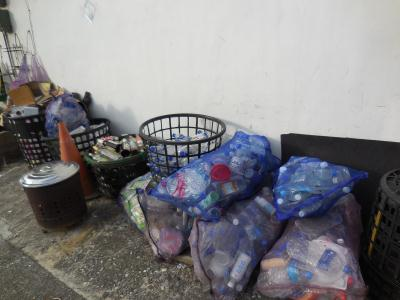bottle: (99, 138, 121, 150), (118, 137, 131, 157)
box: (7, 80, 49, 103)
bucket: (22, 159, 89, 232)
plastic_bag: (252, 194, 370, 298), (169, 134, 275, 215), (189, 204, 275, 288), (274, 155, 368, 221), (43, 96, 86, 131)
